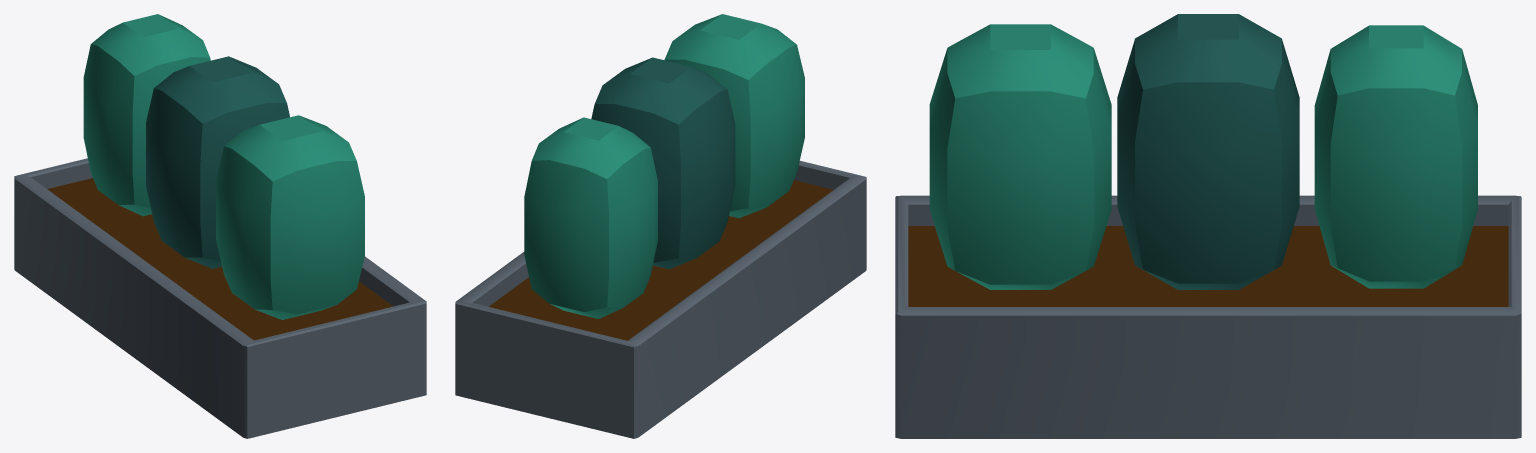
File: Side_Walk_Planter.fbx
3 renders of one model, left to right at view 1: azimuth 30°, elevation 25°; view 2: azimuth 150°, elevation 25°; view 3: azimuth 270°, elevation 25°, orthographic. The views are drawn at different scales.
Parts seen in each view (by area): view 1: Planter, Bush.001, Bush.002, Bush.003; view 2: Planter, Bush.003, Bush.002, Bush.001; view 3: Planter, Bush.002, Bush.001, Bush.003.
Part boxes in pixels (<box>): Planter: <box>14,158,426,438</box>; Bush.001: <box>216,115,364,319</box>; Bush.002: <box>146,56,289,268</box>; Bush.003: <box>83,14,210,216</box>; Planter: <box>455,160,866,438</box>; Bush.003: <box>524,117,657,318</box>; Bush.002: <box>591,57,735,269</box>; Bush.001: <box>664,14,804,218</box>; Planter: <box>895,195,1521,438</box>; Bush.002: <box>1117,14,1299,289</box>; Bush.001: <box>929,24,1111,289</box>; Bush.003: <box>1314,25,1477,288</box>.
Bounding box in the file's own units: 159 × 217 × 350.
